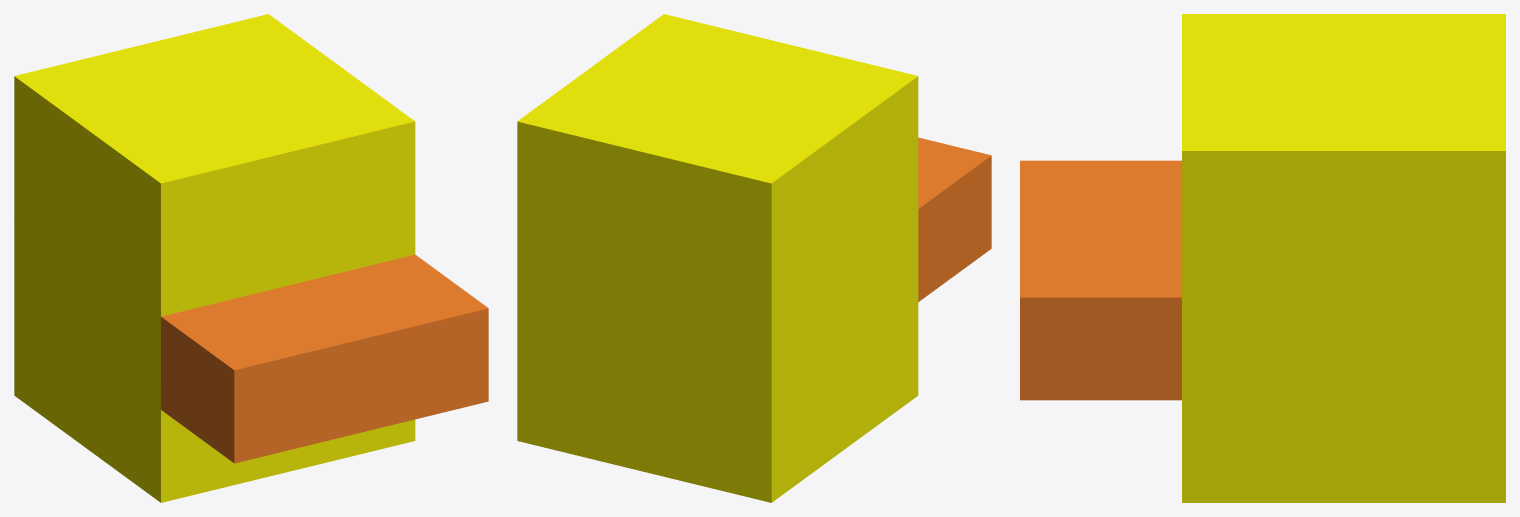
The model's file is duckling.gltf.
3 views of the same model, side by side, from view 1: azimuth 30°, elevation 25°; view 2: azimuth 150°, elevation 25°; view 3: azimuth 270°, elevation 25° (orthographic). The views are drawn at different scales.
Visible parts, largest first — view 1: Duckie; view 2: Duckie; view 3: Duckie.
Part boxes in pixels (x1=…): Duckie: x1=14, y1=14, x2=488, y2=502; Duckie: x1=517, y1=14, x2=991, y2=502; Duckie: x1=1020, y1=14, x2=1505, y2=502.
Size of the model in its own units: 0.2 by 0.24 by 0.3.
